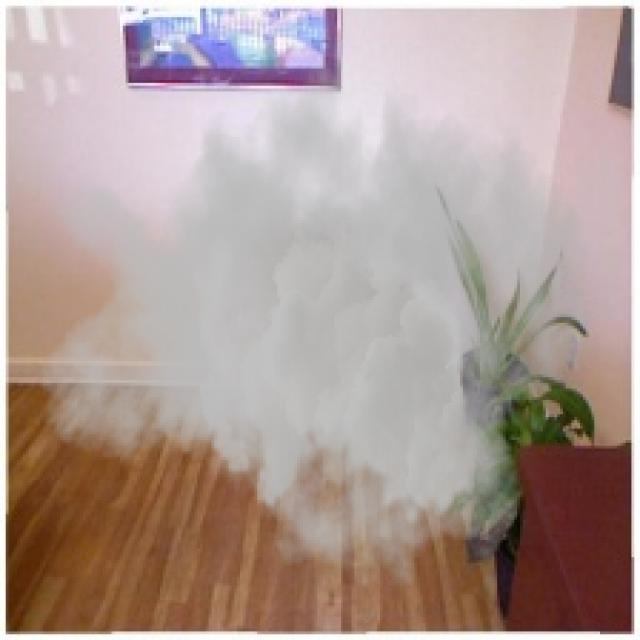smoke: (37, 29, 592, 588)
